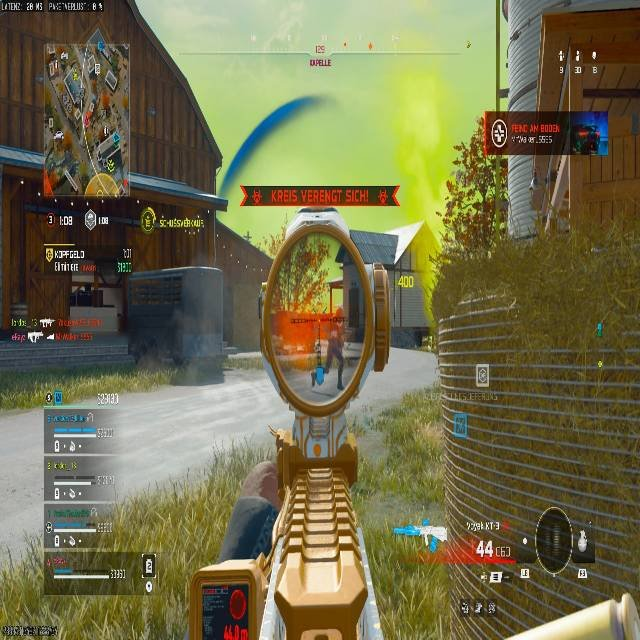player: (325, 326, 345, 381)
